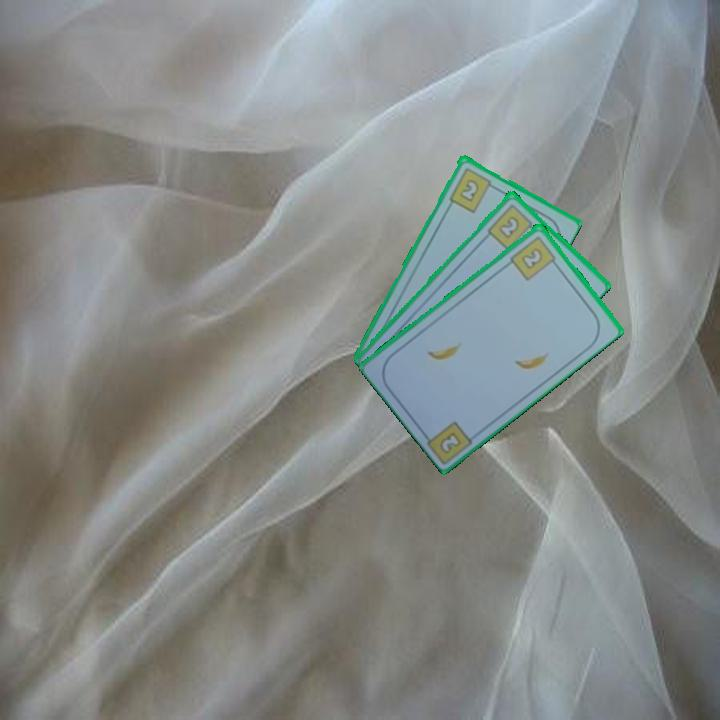2b: (484, 200, 539, 252), (507, 232, 561, 283), (446, 164, 498, 215), (436, 428, 464, 456)
